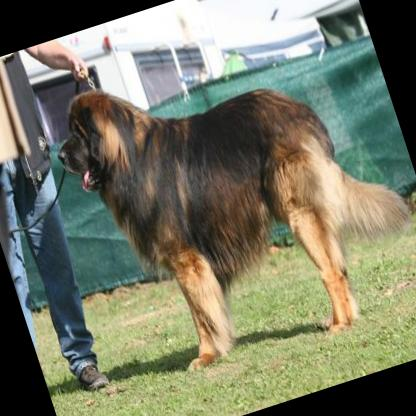Leonberg: (37, 0, 416, 400)
